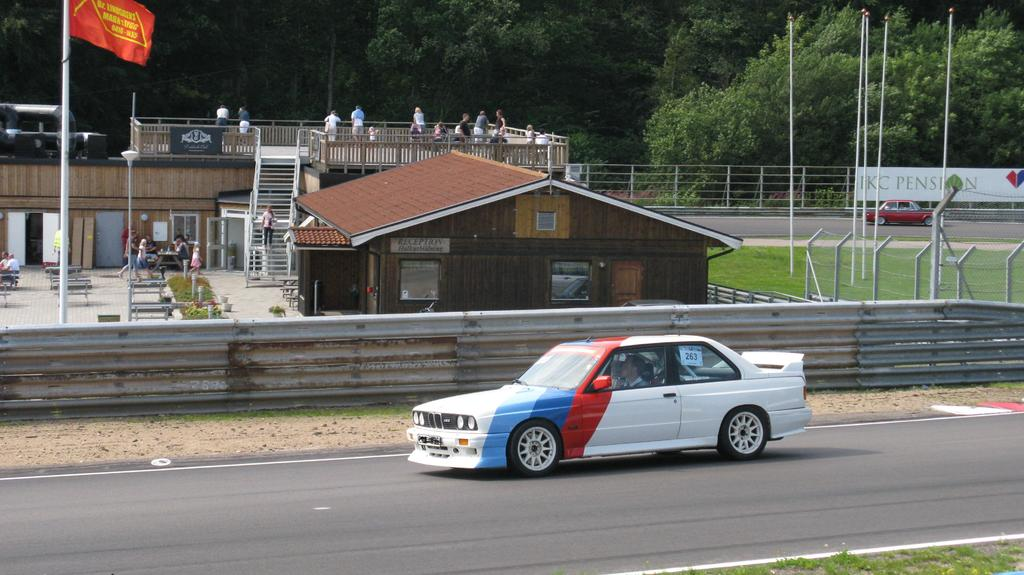Car: (403, 326, 805, 471), (862, 193, 933, 228)
